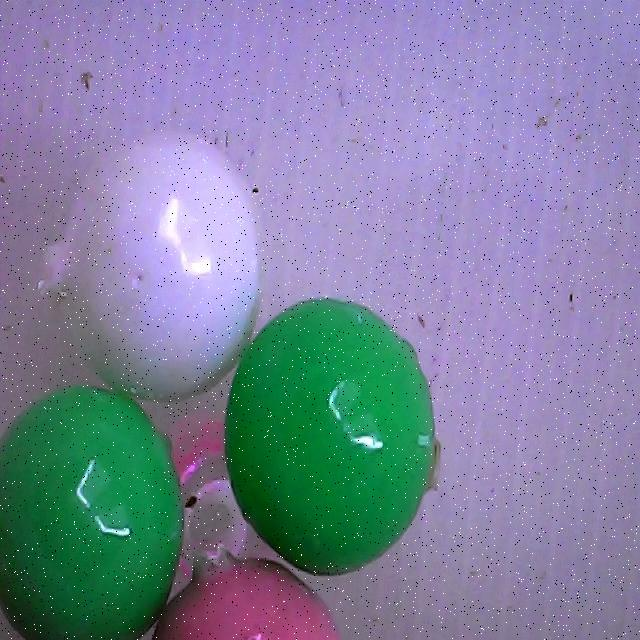beads: (1, 98, 326, 435), (0, 388, 182, 640)
